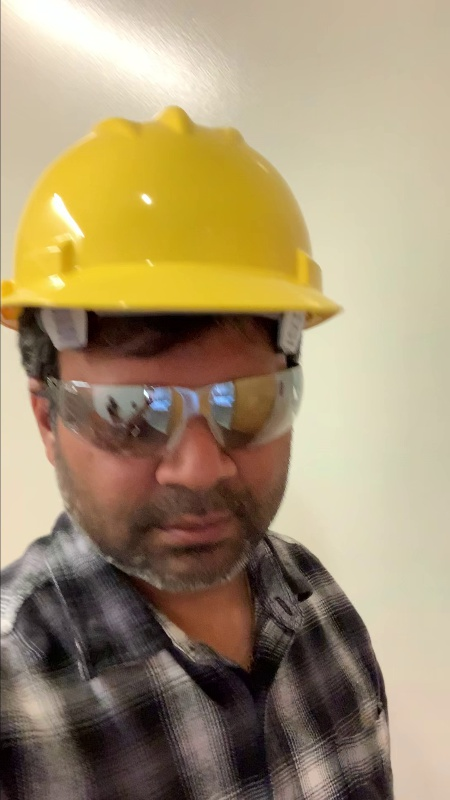glasses: (56, 371, 313, 451)
helmet: (14, 102, 334, 310)
